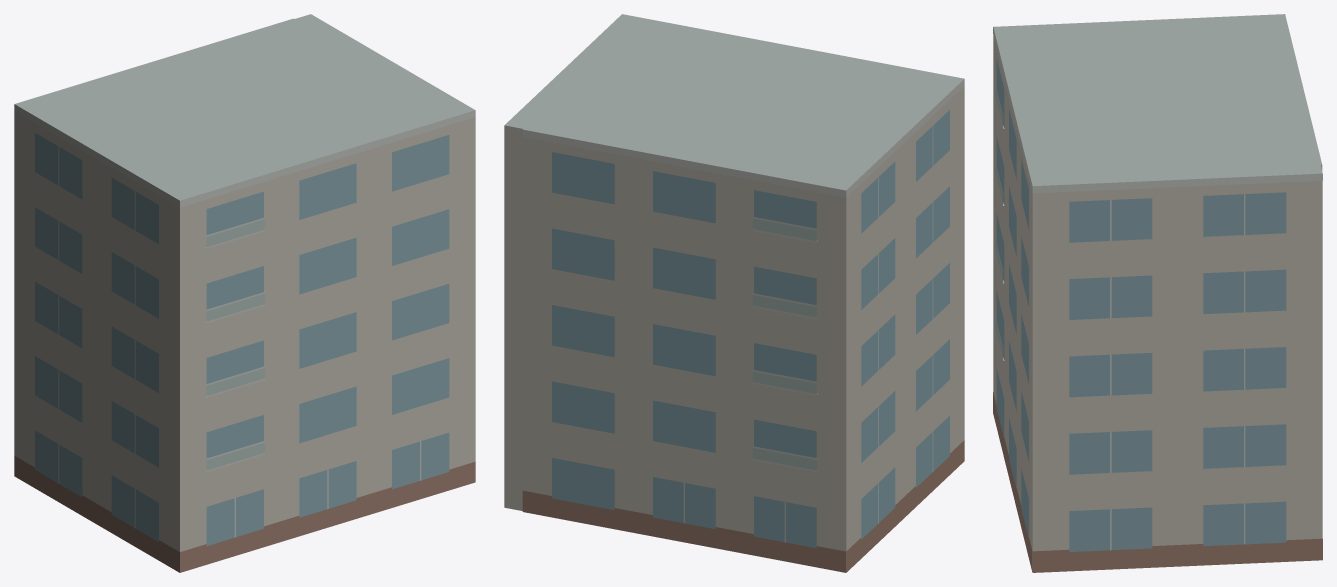
File: survey-upis-32871508.glb
The picture shows the model from 3 angles, left to right: view 1: azimuth 30°, elevation 25°; view 2: azimuth 150°, elevation 25°; view 3: azimuth 270°, elevation 25°; orthographic projection. The views are drawn at different scales.
Visible parts, largest first — view 1: survey-upis-32871508.tmp; view 2: survey-upis-32871508.tmp; view 3: survey-upis-32871508.tmp.
Boxes of the visible parts, x1=… form: survey-upis-32871508.tmp: x1=14, y1=14, x2=475, y2=572; survey-upis-32871508.tmp: x1=504, y1=14, x2=964, y2=572; survey-upis-32871508.tmp: x1=993, y1=14, x2=1322, y2=572.
Size of the model in its own units: 12.62 by 13.2 by 10.2.
